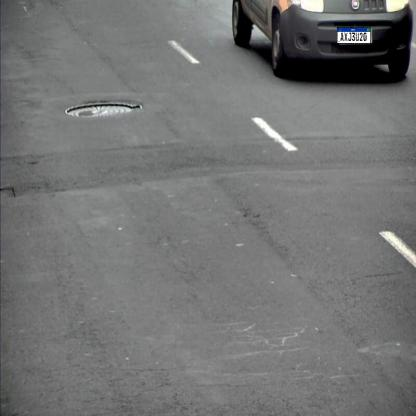PlacaM: (337, 27, 371, 44)
